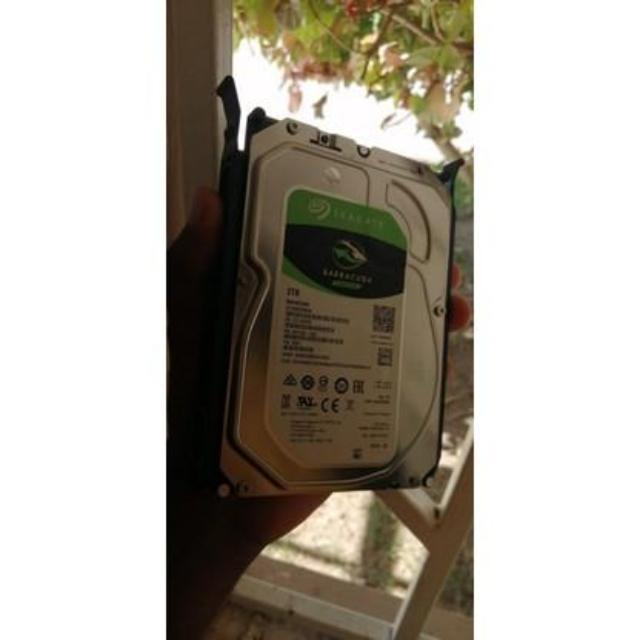DISK: (211, 104, 458, 496)
